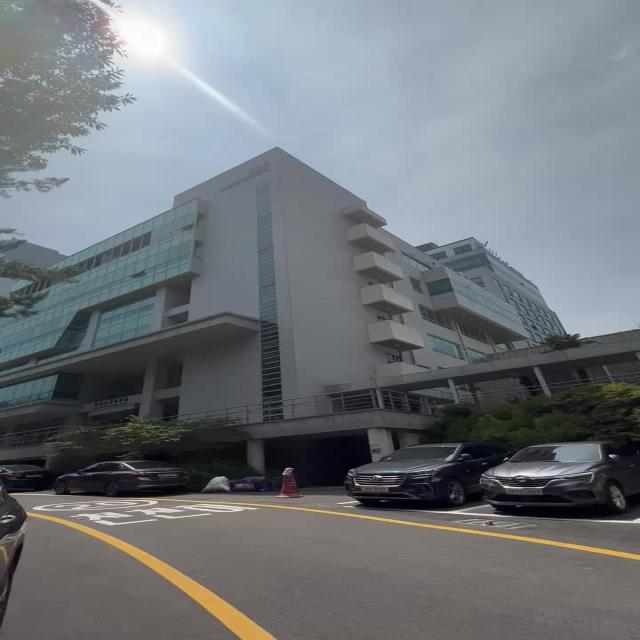building: (27, 139, 521, 427)
